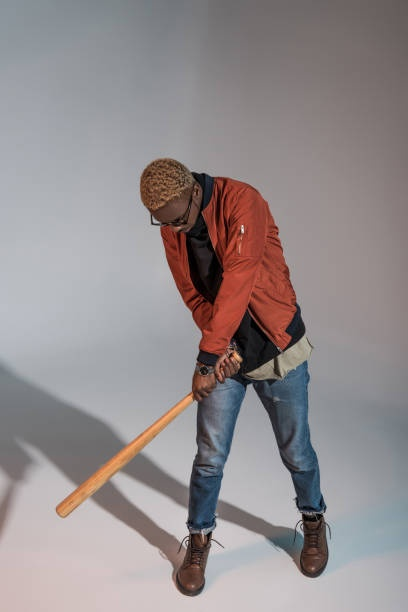bita: (46, 348, 241, 522)
